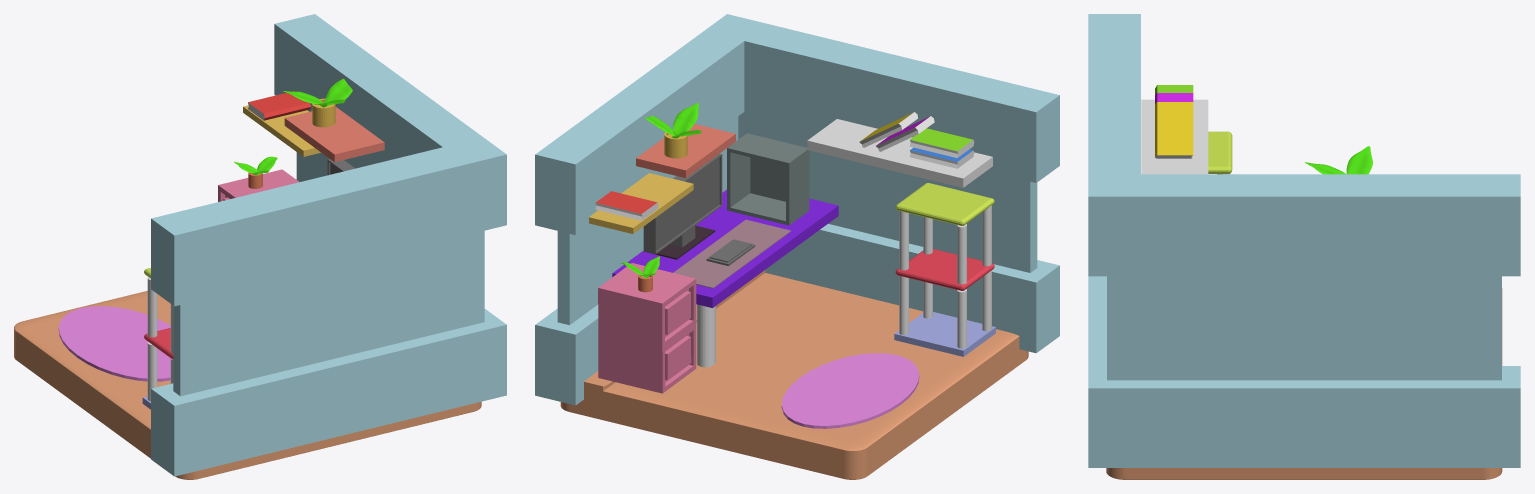
File: Room.glb
The picture shows the model from 3 angles, left to right: view 1: azimuth 30°, elevation 25°; view 2: azimuth 150°, elevation 25°; view 3: azimuth 270°, elevation 25°; orthographic projection. The views are drawn at different scales.
Visible parts, largest first — view 1: Cube, Cube.001, Cylinder.006, Cube.011, Cube.005, Cube.010, Cube.021, Cylinder.011, Cylinder.001, Cylinder.007; view 2: Cube, Cube.001, Cube.005, Cylinder.006, Cube.006, Cube.003, Cube.012, Cube.009, Cube.007, Cube.025, Cube.011, Cube.024 (+12 smaller); view 3: Cube, Cube.001, Cube.012, Cube.019, Cube.025, Plane.002.
Part boxes in pixels (left/top/right/bottom): Cube: left=151, top=14, right=506, bottom=476; Cube.001: left=14, top=291, right=481, bottom=479; Cylinder.006: left=58, top=306, right=170, bottom=381; Cube.011: left=284, top=107, right=384, bottom=162; Cube.005: left=218, top=169, right=299, bottom=201; Cube.010: left=243, top=105, right=320, bottom=156; Cube.021: left=248, top=91, right=310, bottom=120; Cylinder.011: left=147, top=277, right=157, bottom=337; Cylinder.001: left=312, top=98, right=335, bottom=127; Cylinder.007: left=147, top=342, right=157, bottom=401; Cube: left=535, top=14, right=1059, bottom=405; Cube.001: left=560, top=273, right=1028, bottom=479; Cube.005: left=598, top=263, right=696, bottom=393; Cylinder.006: left=781, top=353, right=919, bottom=428; Cube.006: left=727, top=133, right=809, bottom=225; Cube.003: left=612, top=189, right=838, bottom=307; Cube.012: left=807, top=119, right=992, bottom=187; Cube.009: left=643, top=153, right=755, bottom=265; Cube.007: left=673, top=219, right=791, bottom=288; Cube.025: left=895, top=183, right=994, bottom=225; Cube.011: left=636, top=124, right=735, bottom=177; Cube.024: left=894, top=312, right=995, bottom=356; Cube: left=1088, top=14, right=1520, bottom=467; Cube.001: left=1106, top=288, right=1502, bottom=479; Cube.012: left=1141, top=99, right=1208, bottom=174; Cube.019: left=1155, top=102, right=1193, bottom=156; Cube.025: left=1208, top=131, right=1232, bottom=173; Plane.002: left=1346, top=146, right=1372, bottom=174.
Size of the model in its own units: 10.91 by 8.11 by 10.91.
